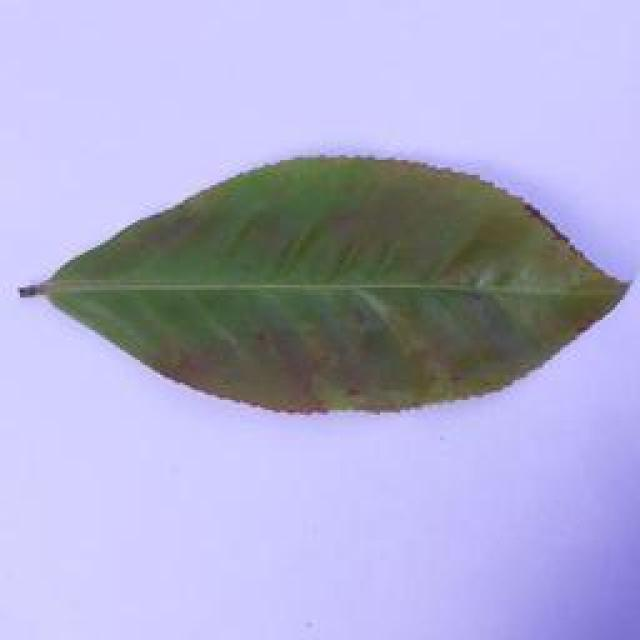Red Leaf Spot: (10, 150, 640, 418)
